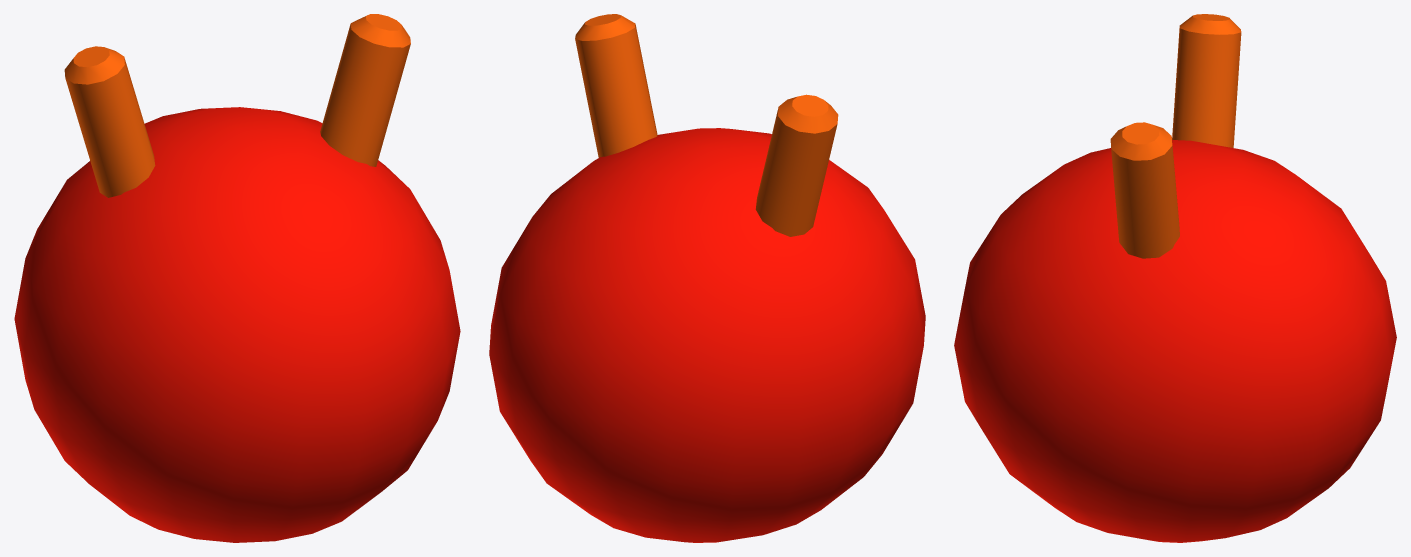
The model's file is 005-Cake_Knife1.FBX.
The picture shows the model from 3 angles, left to right: view 1: azimuth 30°, elevation 25°; view 2: azimuth 150°, elevation 25°; view 3: azimuth 270°, elevation 25°; orthographic projection. The views are drawn at different scales.
Parts seen in each view (by area): view 1: 005-Cake_Knife1; view 2: 005-Cake_Knife1; view 3: 005-Cake_Knife1.
Boxes of the visible parts, bbox=[...] form: 005-Cake_Knife1: bbox=[14, 14, 460, 542]; 005-Cake_Knife1: bbox=[489, 14, 925, 542]; 005-Cake_Knife1: bbox=[954, 14, 1396, 542].
Bounding box in the file's own units: 25.96 × 31.29 × 27.68.
